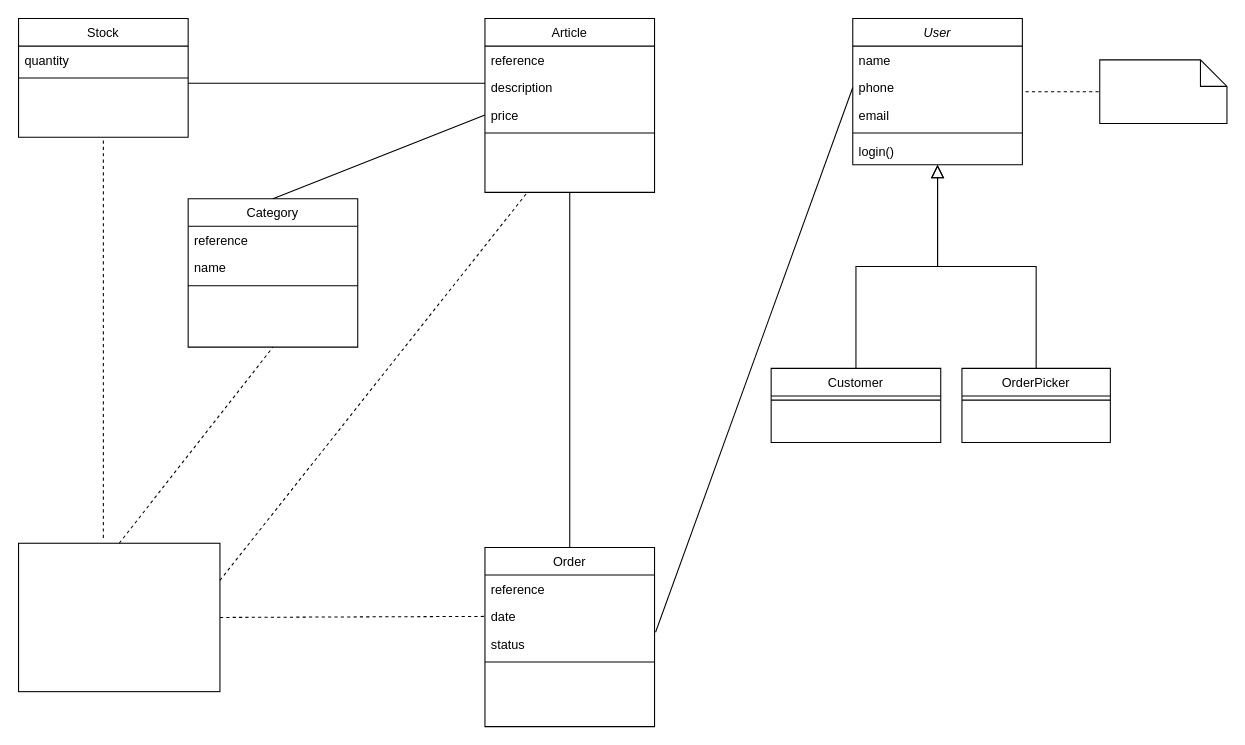
Some shapes in this 1245 by 745 pixel diagram are drawn without their labels. The shapes that lost their labels are listed below. From the top down, each one's centre as x and y in pixels, then its label:
At [1163,91]: "Abstract Class".
At [118,617]: "<<Interface>> Manage + add() + remove()".
